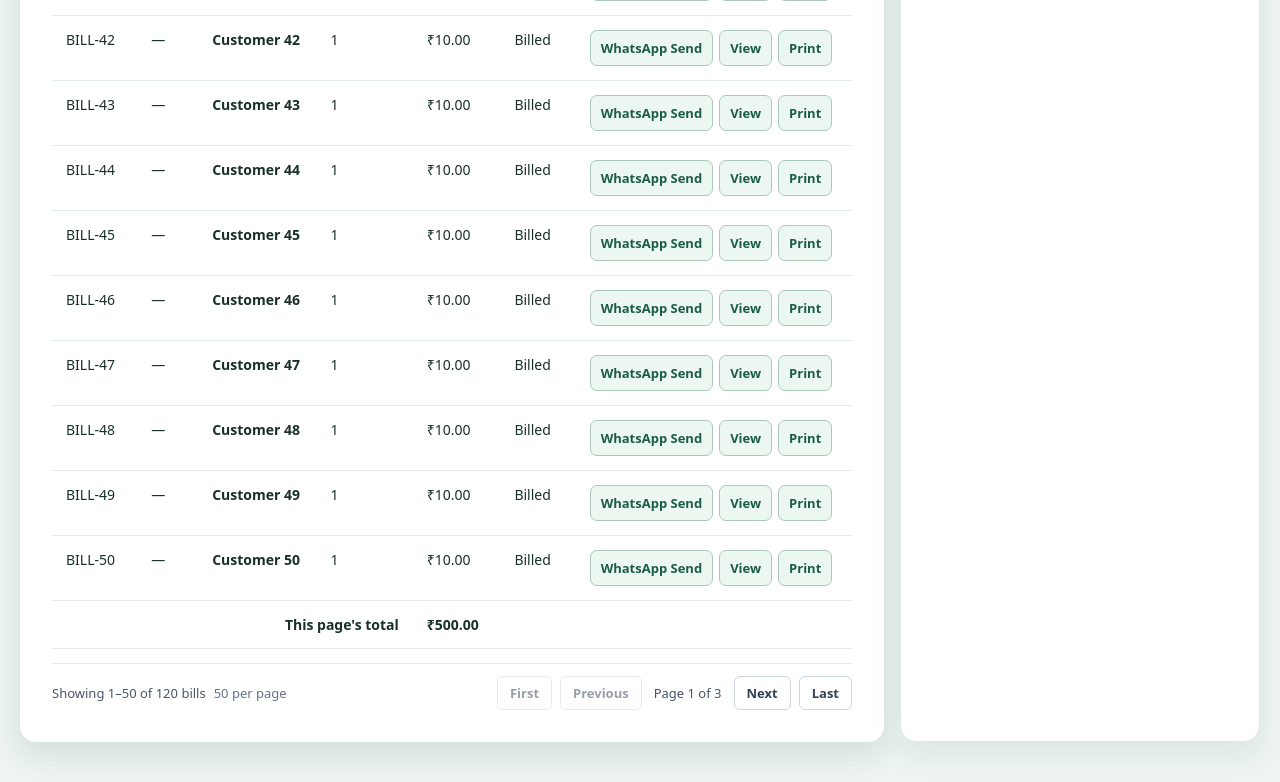
Test: refresh refetches the last valid page when the total shrinks
This screenshot has width=1280, height=782.
(page scrolled)
Step 1. Click the button "Last" → [825, 693], box [799,676,852,710]
(page scrolled)
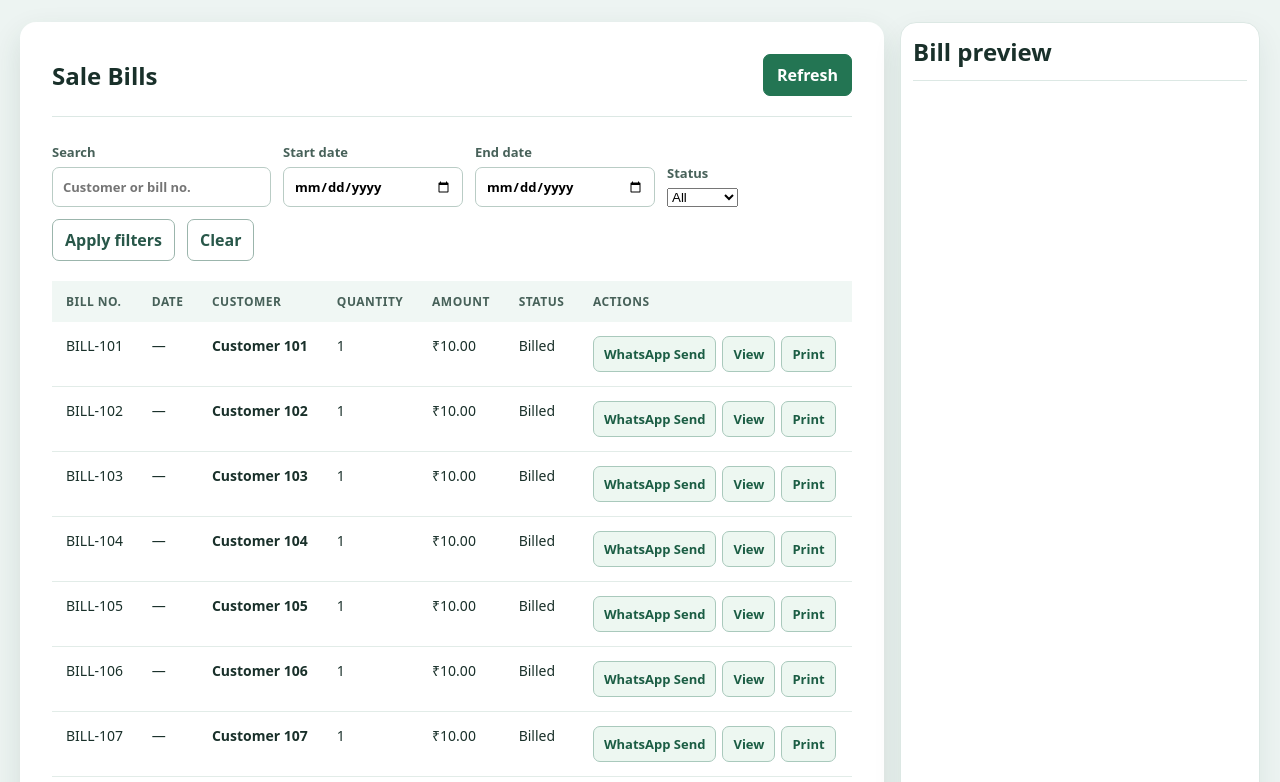
expect the text "Customer 101" is shown: met, box [198,322,323,386]
Step 2. Click the button "Refresh" → [807, 75], box [763,54,852,96]
(page scrolled)
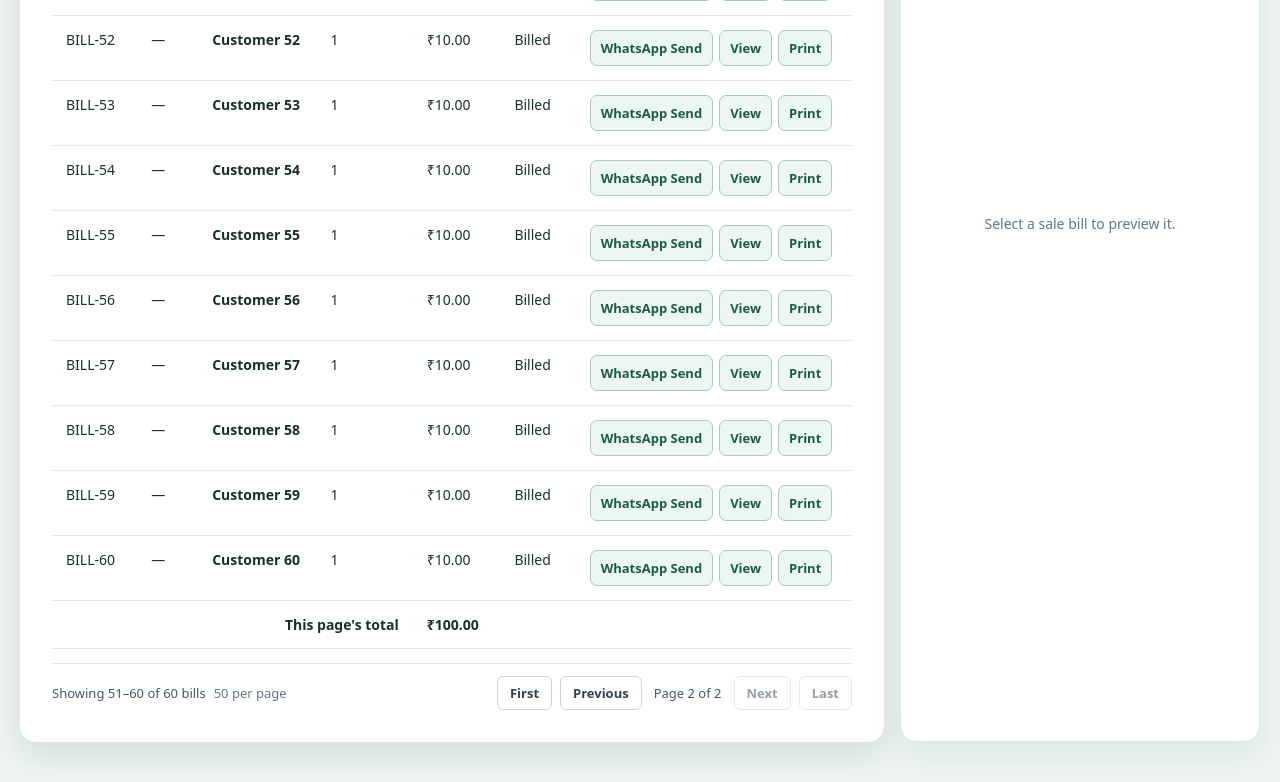
expect the text "Customer 60" is shown: met, box [198,536,316,600]
expect the text "Page 2 of 2" is shown: met, box [650,684,726,702]
expect the text "₹100.00" is shown: met, box [413,600,500,648]
